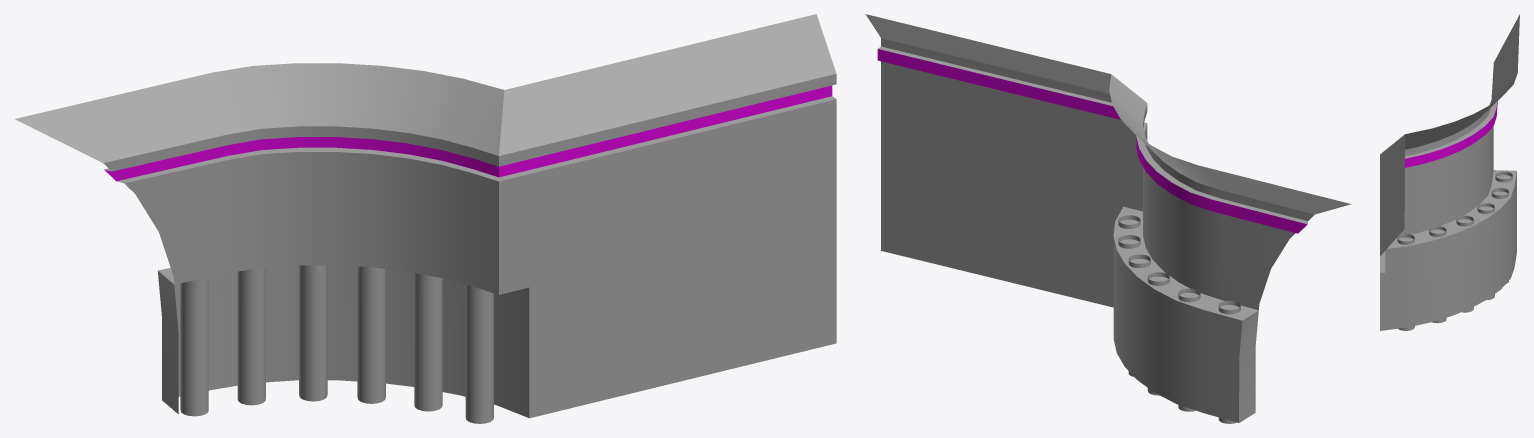
The model's file is sm_entranceWall.fbx.
3 renders of one model, left to right at view 1: azimuth 30°, elevation 25°; view 2: azimuth 150°, elevation 25°; view 3: azimuth 270°, elevation 25°, orthographic. The views are drawn at different scales.
Parts seen in each view (by area): view 1: sm_entranceWall; view 2: sm_entranceWall; view 3: sm_entranceWall.
Boxes of the visible parts, x1,y1,x2,y2 form: sm_entranceWall: (15,14,836,423); sm_entranceWall: (865,14,1351,423); sm_entranceWall: (1380,14,1519,330).
Size of the model in its own units: 126 by 54.58 by 34.58.
